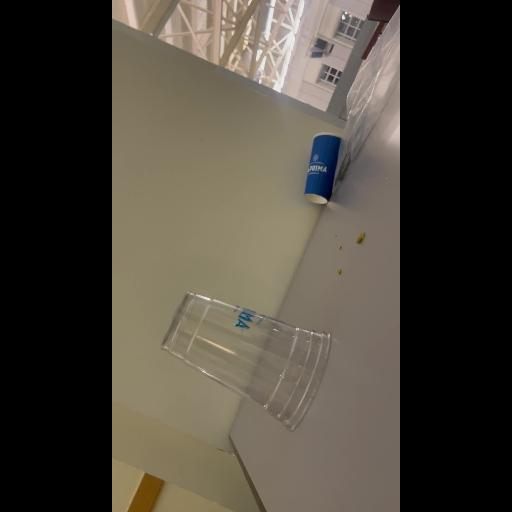lp_paper_cup: (146, 284, 154, 288)
lp_plastic_cup: (152, 291, 336, 439)
